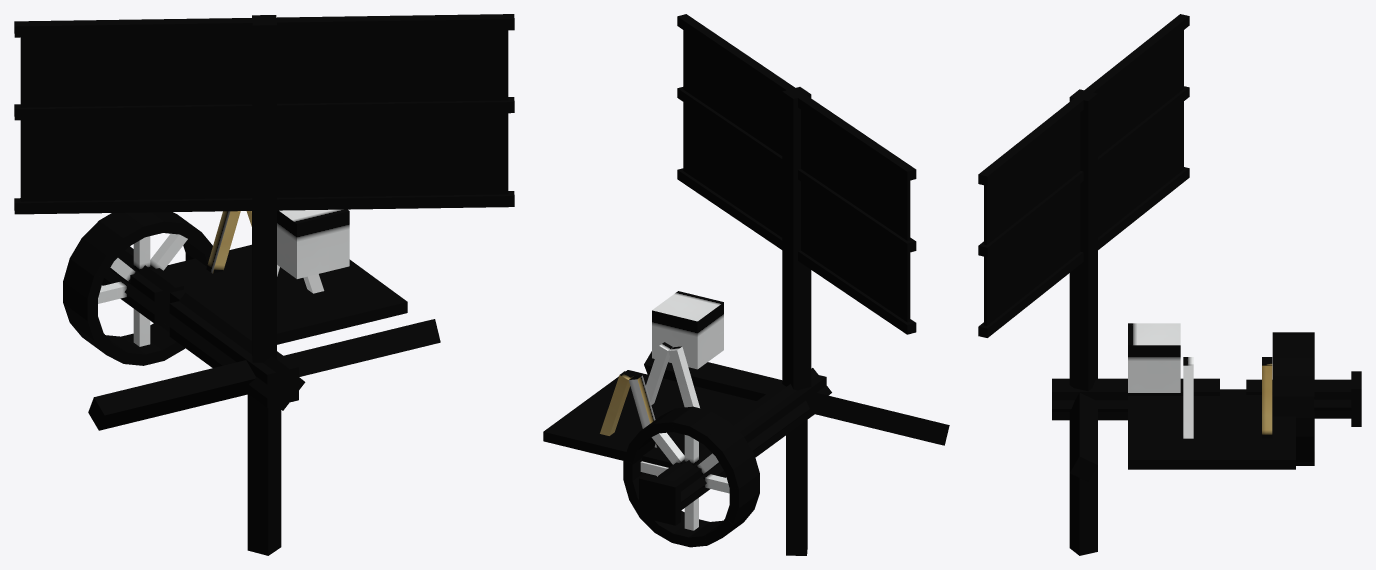
Rendered from windmill_generator.obj.
3 views of the same model, side by side, from view 1: azimuth 30°, elevation 25°; view 2: azimuth 150°, elevation 25°; view 3: azimuth 270°, elevation 25° (orthographic). The views are drawn at different scales.
Parts seen in each view (by area): view 1: blade, axle, windmill_generator, wheel; view 2: blade, axle, windmill_generator, wheel; view 3: blade, windmill_generator, axle, wheel.
Boxes of the visible parts, x1,y1,x2,y2 form: blade: [14, 14, 514, 214]; axle: [88, 202, 440, 555]; windmill_generator: [163, 209, 407, 344]; wheel: [63, 212, 212, 365]; blade: [677, 14, 916, 334]; axle: [644, 245, 949, 555]; windmill_generator: [543, 291, 756, 467]; wheel: [623, 406, 759, 547]; blade: [978, 14, 1189, 337]; windmill_generator: [1128, 323, 1295, 469]; axle: [1052, 246, 1219, 555]; wheel: [1246, 332, 1361, 465].
Bounding box in the file's own units: 2.29 × 2.99 × 2.28.
